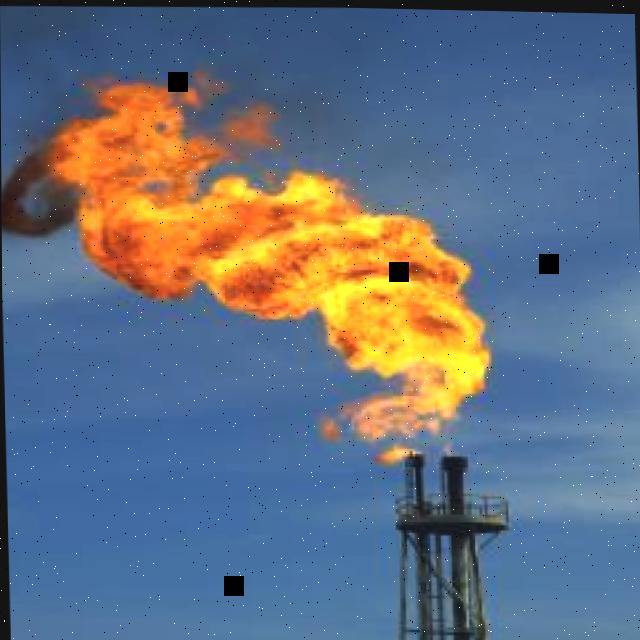fire: (1, 65, 488, 443), (369, 441, 425, 461)
